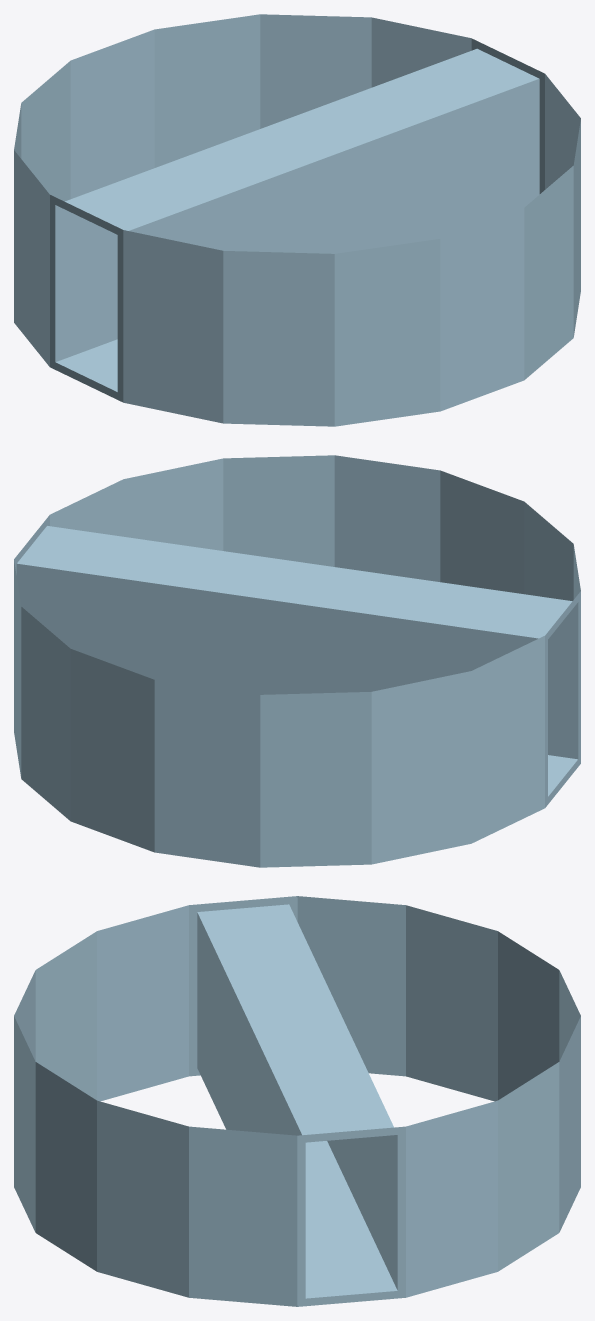
File: Módulo_torre_antena_pasillo_diametral_01.fbx
3 views of the same model, one above another, from view 1: azimuth 30°, elevation 25°; view 2: azimuth 150°, elevation 25°; view 3: azimuth 270°, elevation 25° (orthographic).
Visible parts, largest first — view 1: Módulo_torre_antena_pasillo_diametral; view 2: Módulo_torre_antena_pasillo_diametral; view 3: Módulo_torre_antena_pasillo_diametral.
Boxes of the visible parts, bbox=[...] form: Módulo_torre_antena_pasillo_diametral: bbox=[14, 14, 580, 426]; Módulo_torre_antena_pasillo_diametral: bbox=[14, 455, 580, 867]; Módulo_torre_antena_pasillo_diametral: bbox=[14, 896, 580, 1306].
Size of the model in its own units: 600 by 200 by 600.
